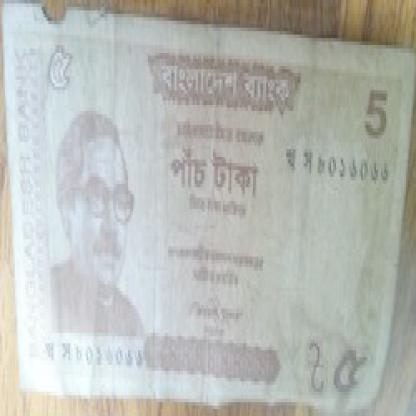Five Taka: (356, 73, 393, 152), (35, 31, 76, 94), (329, 336, 368, 402)
